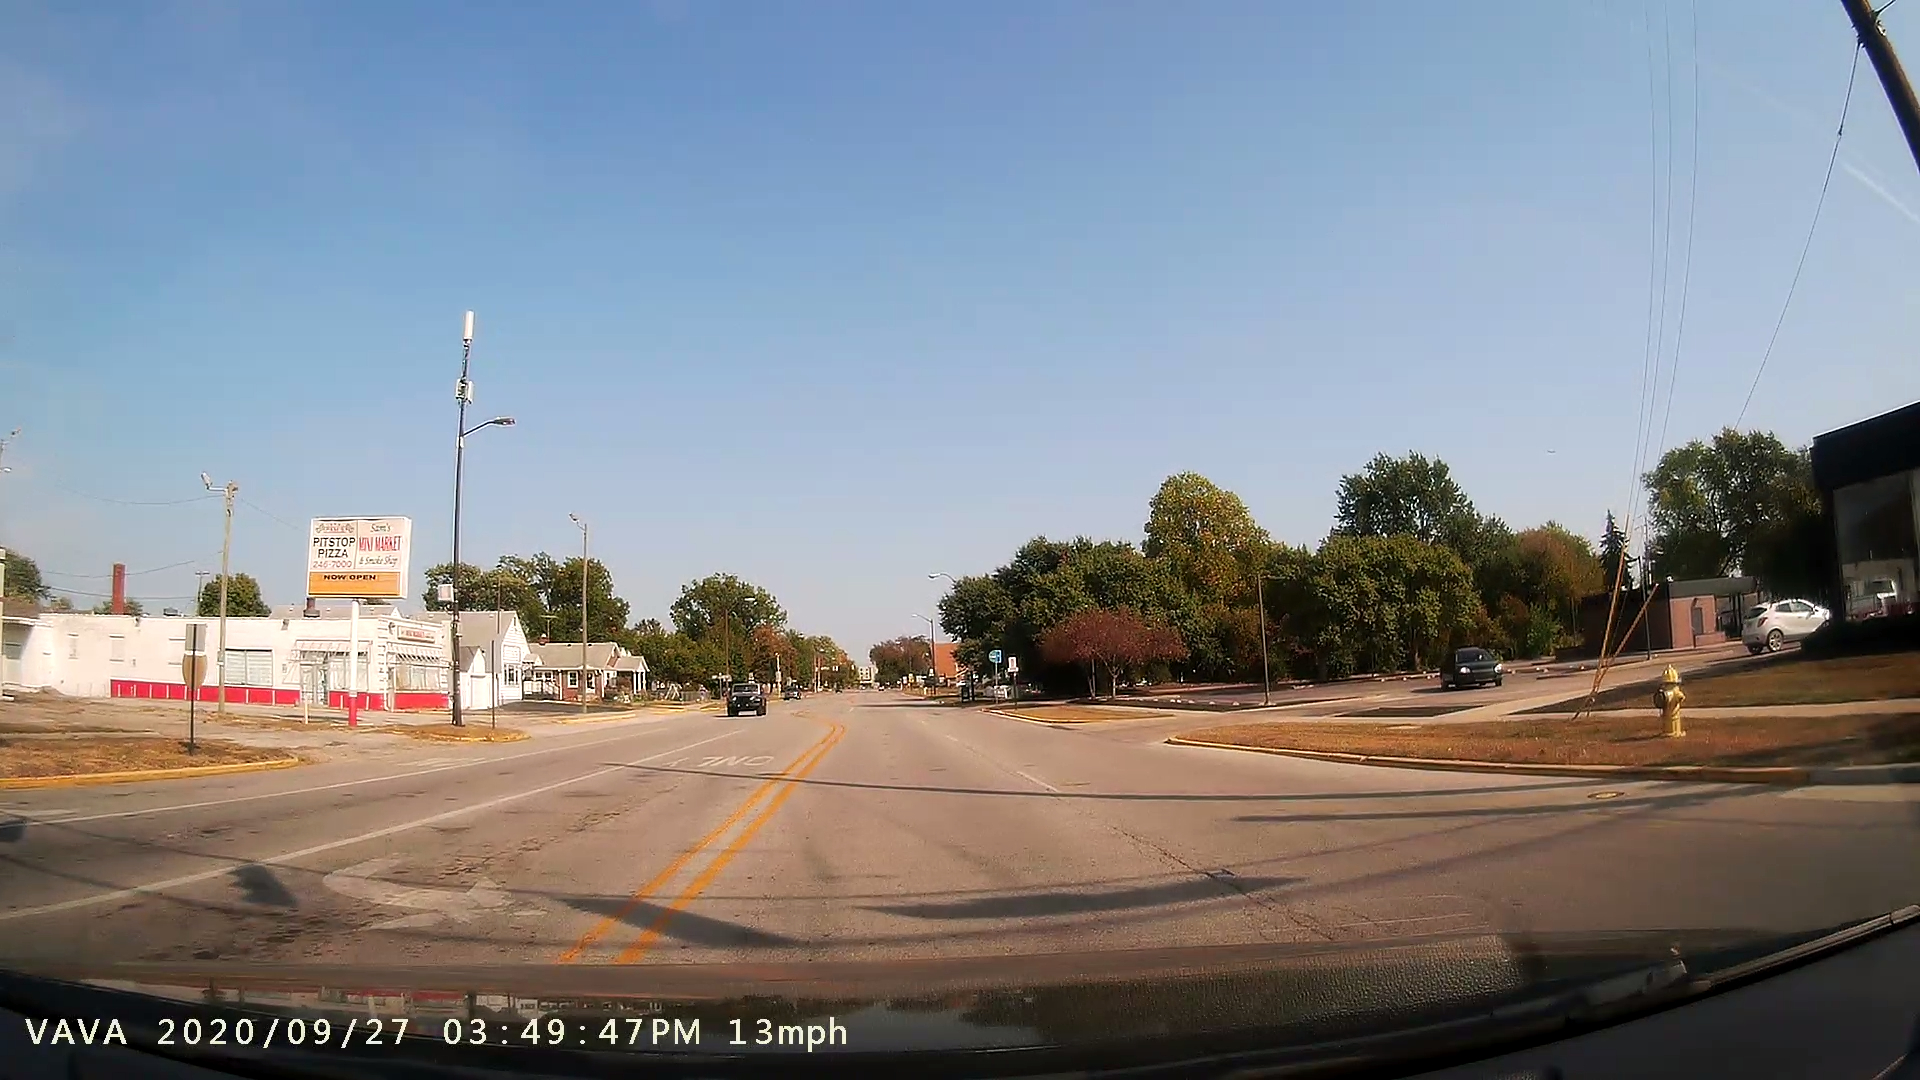fire_hydrant: (1640, 657, 1706, 745)
